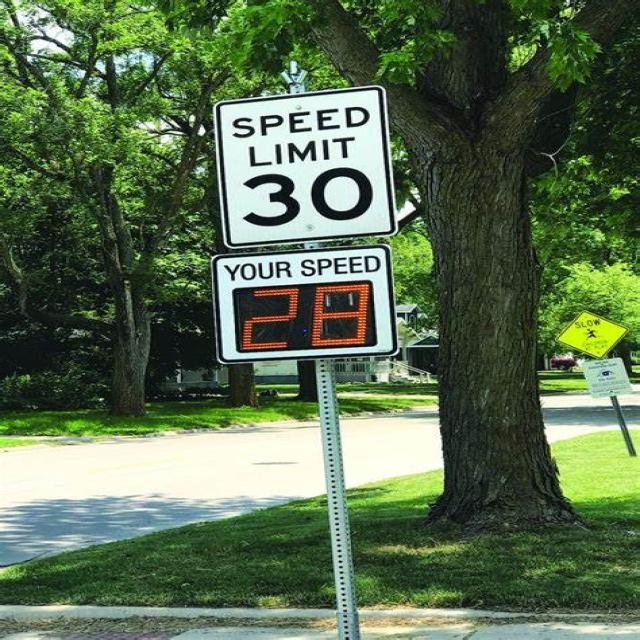speedLimit30: (210, 80, 398, 240)
